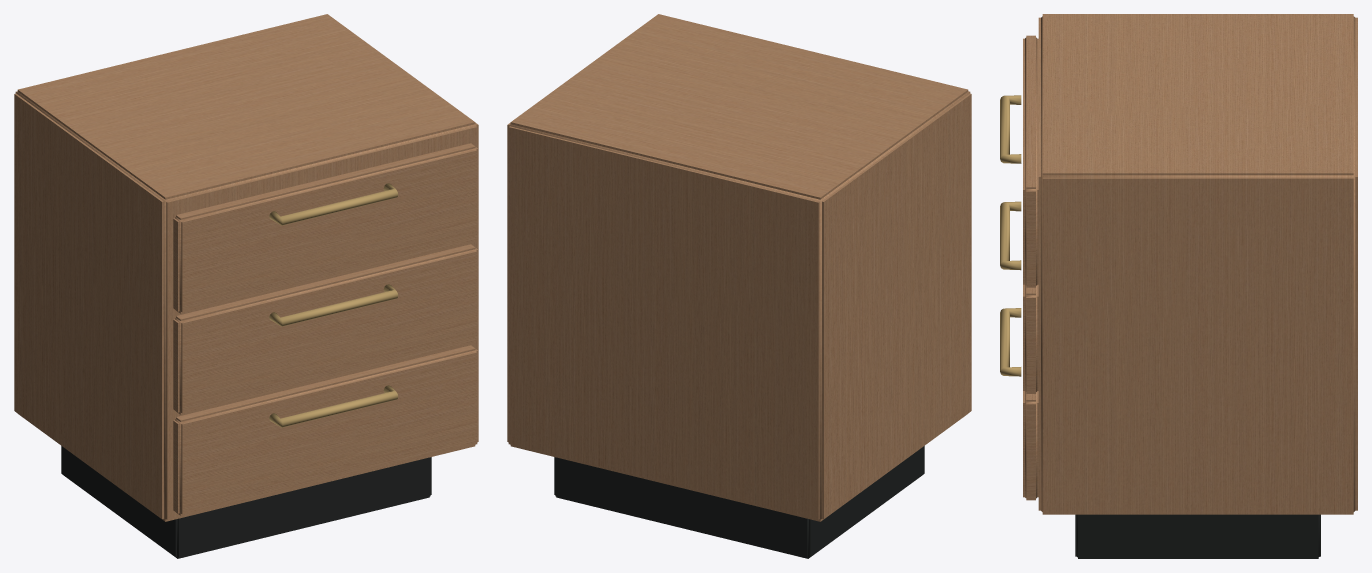
File: contemporary.bedside.gltf
3 renders of one model, left to right at view 1: azimuth 30°, elevation 25°; view 2: azimuth 150°, elevation 25°; view 3: azimuth 270°, elevation 25°, orthographic. The views are drawn at different scales.
Parts seen in each view (by area): view 1: contemporary.bedside.carcass; view 2: contemporary.bedside.carcass; view 3: contemporary.bedside.carcass.
Boxes of the visible parts, x1,y1,x2,y2 form: contemporary.bedside.carcass: [14, 14, 478, 558]; contemporary.bedside.carcass: [507, 14, 971, 558]; contemporary.bedside.carcass: [1000, 14, 1357, 558].
Bounding box in the file's own units: 0.47 × 0.54 × 0.437.
Materials: 3 (1 with a texture image).
